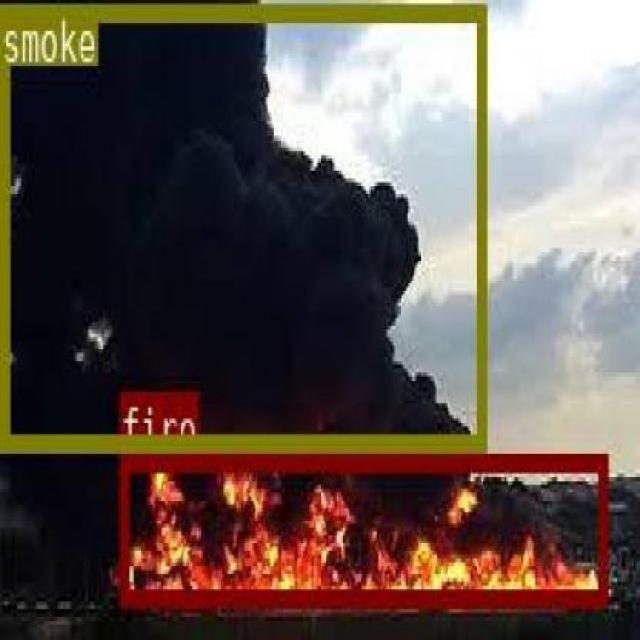fire: (118, 452, 606, 603)
smoke: (0, 0, 483, 449)
